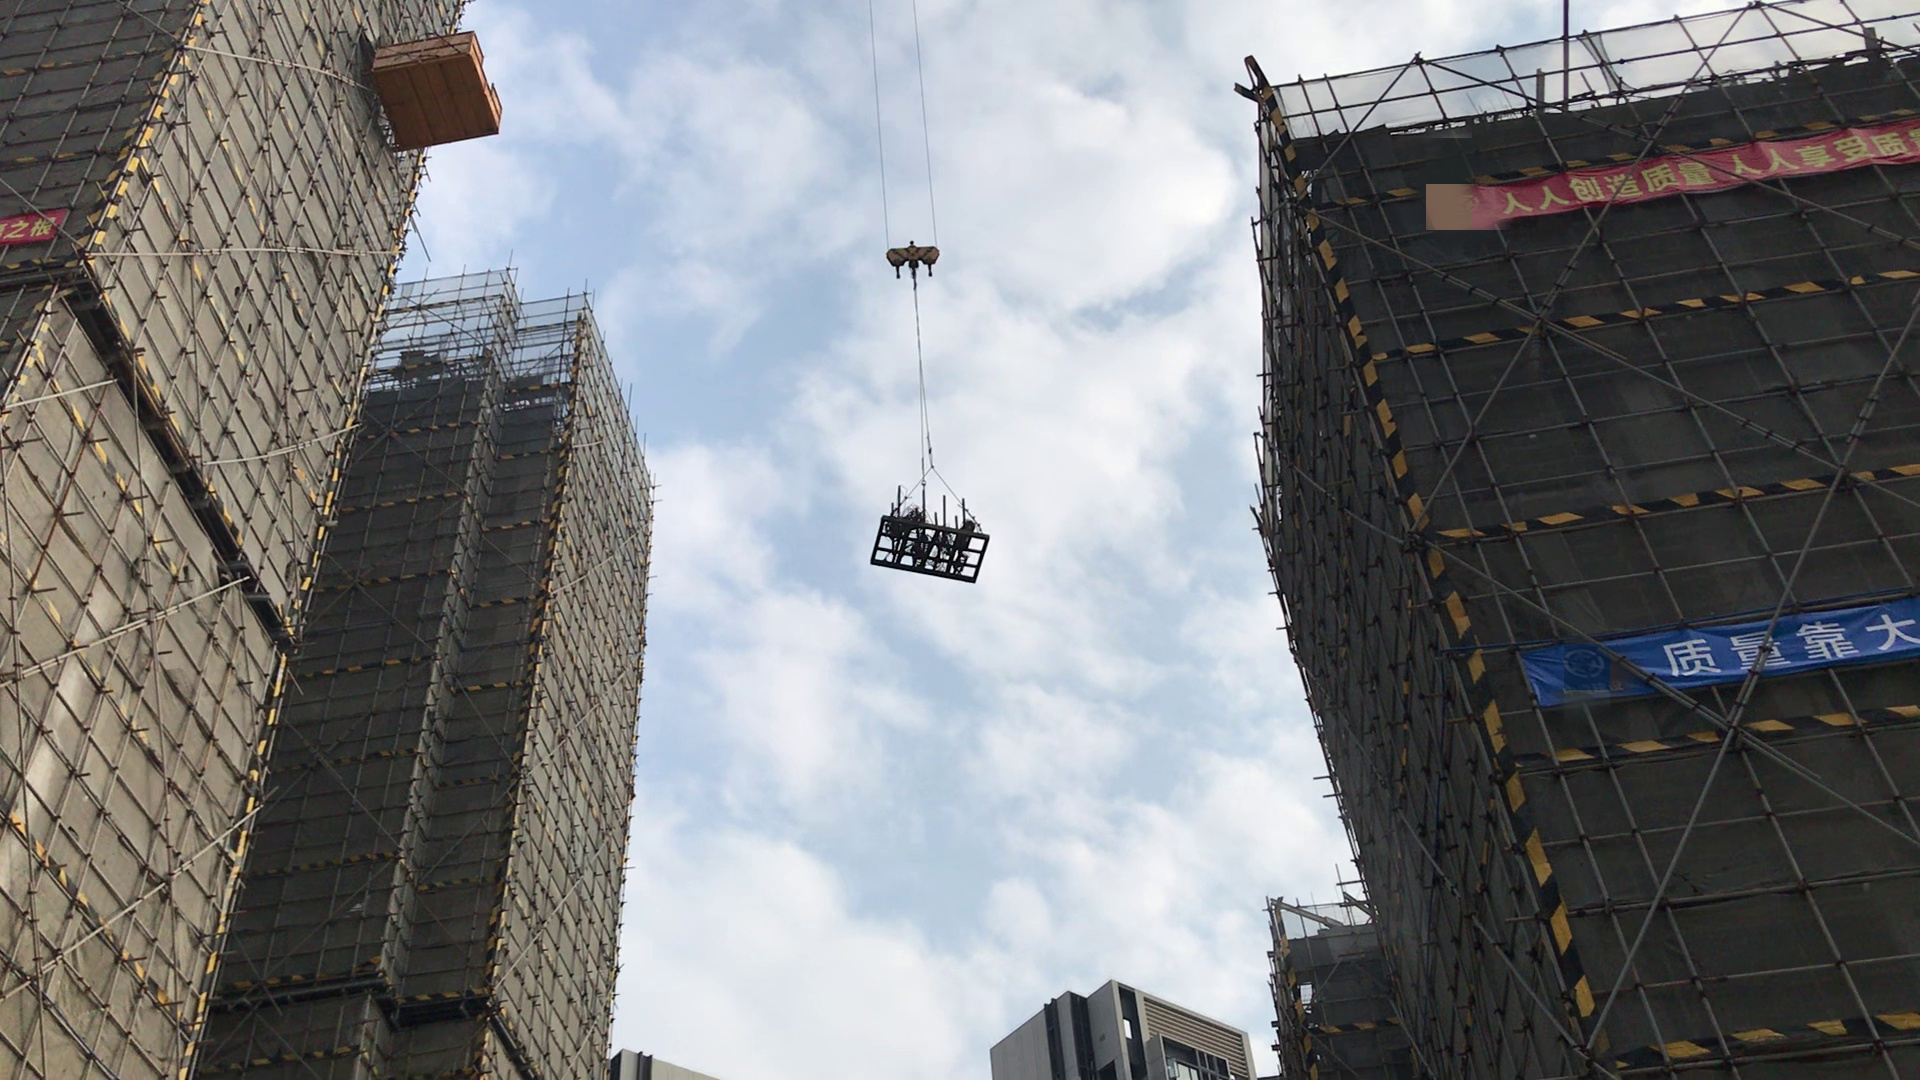hook: (880, 233, 945, 289)
slogan: (1416, 131, 1920, 214), (1573, 596, 1920, 694)
